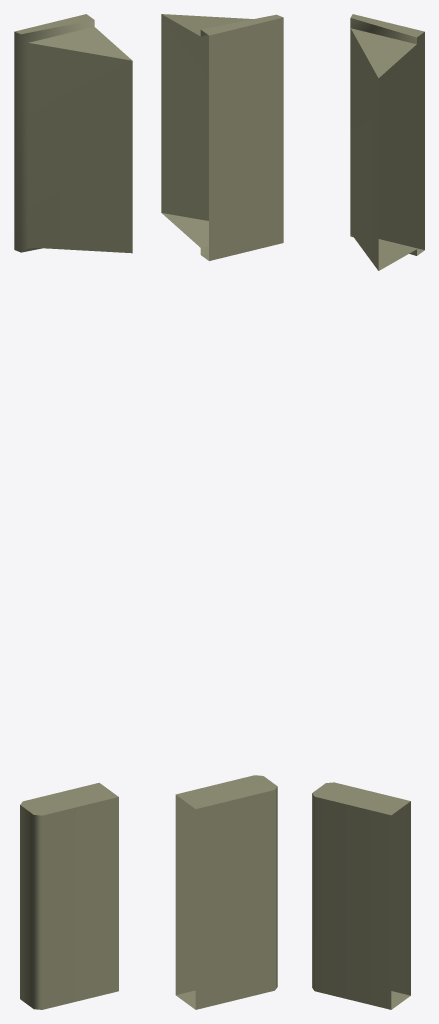
File: Cerradura P Principal.fbx
3 views of the same model, side by side, from view 1: azimuth 30°, elevation 25°; view 2: azimuth 210°, elevation 25°; view 3: azimuth 330°, elevation 25° (orthographic). The views are drawn at different scales.
Parts seen in each view (by area): view 1: Cerradura_P_Principal; view 2: Cerradura_P_Principal; view 3: Cerradura_P_Principal.
Part boxes in pixels (<box>): Cerradura_P_Principal: <box>14,14,132,1009</box>; Cerradura_P_Principal: <box>161,14,283,1009</box>; Cerradura_P_Principal: <box>312,14,424,1009</box>.
Bounding box in the file's own units: 0.0134 × 0.1476 × 0.013.
